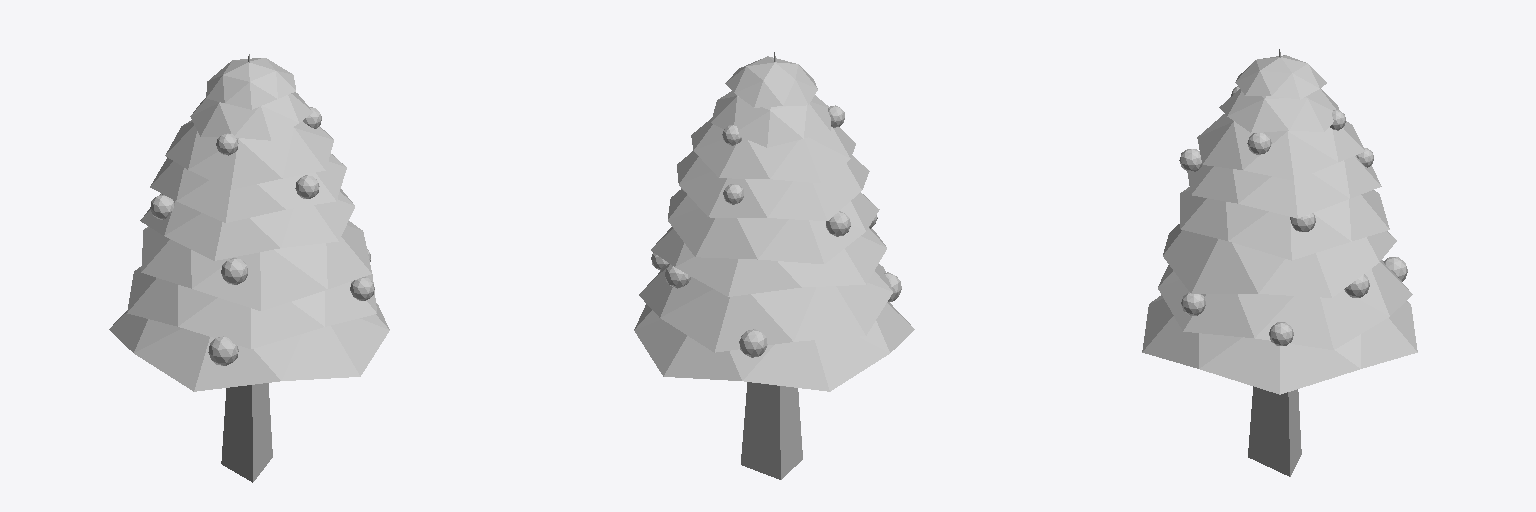
Rendered from DecoratedChristmasTree 2.obj.
3 renders of one model, left to right at view 1: azimuth 30°, elevation 25°; view 2: azimuth 150°, elevation 25°; view 3: azimuth 270°, elevation 25°, orthographic.
Visible parts, largest first — view 1: Icosphere_Material.001, Icosphere.002_Material.001, Icosphere.001_Material.001, Icosphere.003_Material.001, Icosphere.005_Material.001, Icosphere.004_Material.001, Cone_Material.002, Icosphere.006_Material.001, Icosphere.007_Material.001, Icosphere.011_Material.006, Icosphere.016_Material.003; view 2: Icosphere.001_Material.001, Icosphere_Material.001, Icosphere.003_Material.001, Icosphere.002_Material.001, Icosphere.004_Material.001, Icosphere.005_Material.001, Cone_Material.002, Icosphere.006_Material.001, Icosphere.007_Material.001, Icosphere.012_Material.005; view 3: Icosphere_Material.001, Icosphere.001_Material.001, Icosphere.002_Material.001, Icosphere.003_Material.001, Icosphere.004_Material.001, Icosphere.005_Material.001, Cone_Material.002, Icosphere.006_Material.001, Icosphere.007_Material.001.
Part boxes in pixels (x1,y1,x2,y2): Icosphere_Material.001: (109,303,389,391); Icosphere.002_Material.001: (141,221,371,310); Icosphere.001_Material.001: (127,267,376,348); Icosphere.003_Material.001: (140,189,354,260); Icosphere.005_Material.001: (165,120,333,189); Icosphere.004_Material.001: (150,154,346,222); Cone_Material.002: (221,54,272,482); Icosphere.006_Material.001: (190,92,312,140); Icosphere.007_Material.001: (206,58,295,109); Icosphere.011_Material.006: (208,336,238,365); Icosphere.016_Material.003: (221,258,247,284); Icosphere.001_Material.001: (639,264,892,352); Icosphere_Material.001: (634,302,914,391); Icosphere.003_Material.001: (668,189,879,263); Icosphere.002_Material.001: (651,227,886,296); Icosphere.004_Material.001: (677,151,869,220); Icosphere.005_Material.001: (691,118,855,182); Cone_Material.002: (741,52,802,479); Icosphere.006_Material.001: (711,91,830,147); Icosphere.007_Material.001: (725,56,817,107); Icosphere.012_Material.005: (739,329,767,357); Icosphere_Material.001: (1142,295,1417,394); Icosphere.001_Material.001: (1158,260,1412,349); Icosphere.002_Material.001: (1163,224,1396,297); Icosphere.003_Material.001: (1180,187,1389,260); Icosphere.004_Material.001: (1187,156,1381,218); Icosphere.005_Material.001: (1197,114,1364,180); Cone_Material.002: (1248,49,1301,476); Icosphere.006_Material.001: (1219,88,1338,132); Icosphere.007_Material.001: (1235,55,1326,99).
Size of the model in its own units: 1.75 by 2.87 by 1.7.